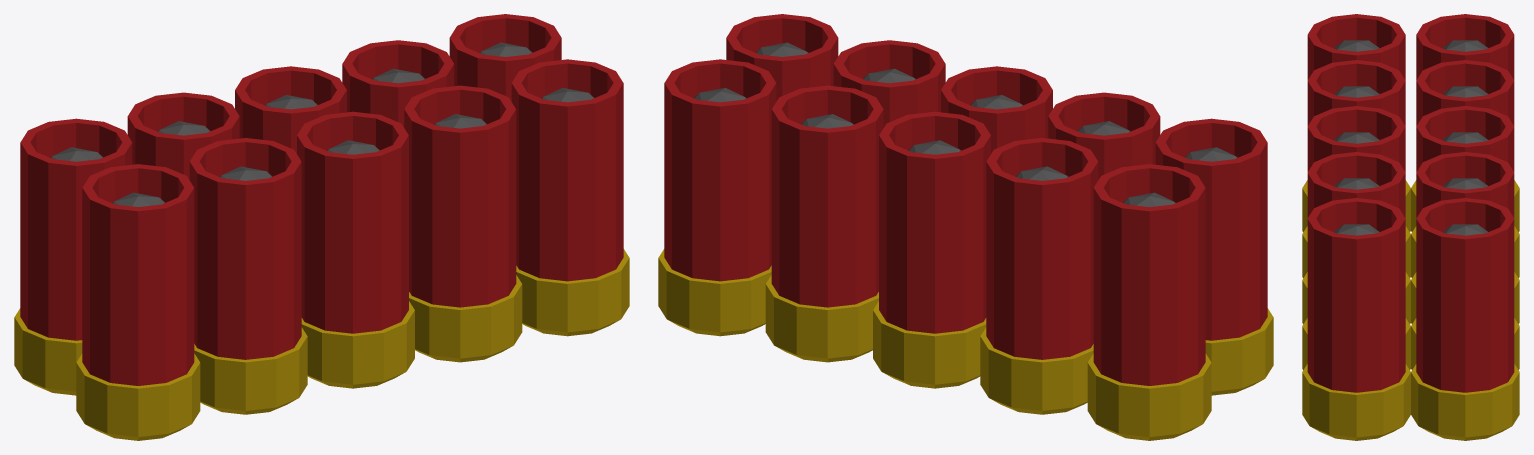
File: ShotgunShell.glb
3 views of the same model, side by side, from view 1: azimuth 30°, elevation 25°; view 2: azimuth 150°, elevation 25°; view 3: azimuth 270°, elevation 25° (orthographic). The views are drawn at different scales.
Visible parts, largest first — view 1: Shell.001; view 2: Shell.001; view 3: Shell.001.
Boxes of the visible parts, x1,y1,x2,y2 form: Shell.001: [14, 14, 629, 440]; Shell.001: [658, 14, 1273, 440]; Shell.001: [1302, 14, 1519, 440].
Size of the model in its own units: 4.64 by 1.95 by 1.86.
Materials: 2 (1 with a texture image).
